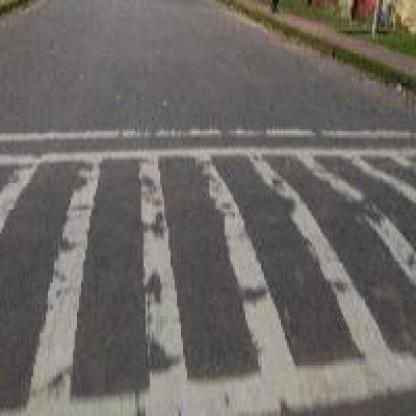Speed Bump: (0, 127, 412, 414)
